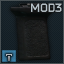BCM GUNFIGHTER MOD.3 vertical grip: (0, 0, 64, 64)
